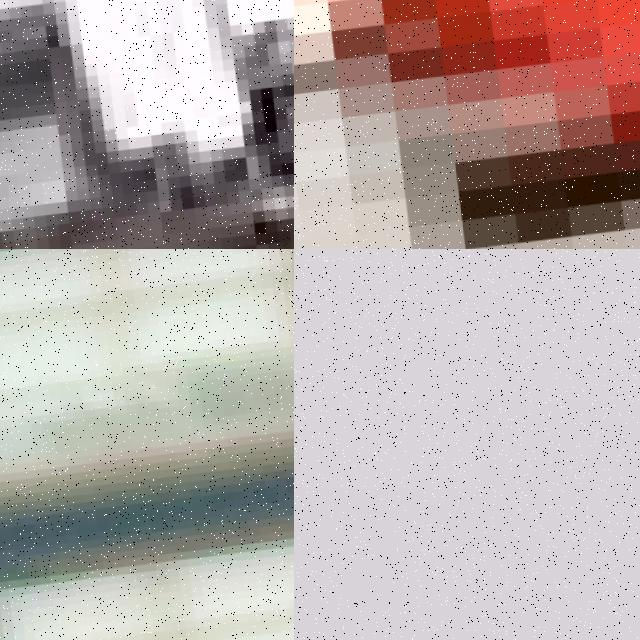drone: (0, 249, 294, 640), (294, 0, 640, 249), (0, 0, 294, 249)
